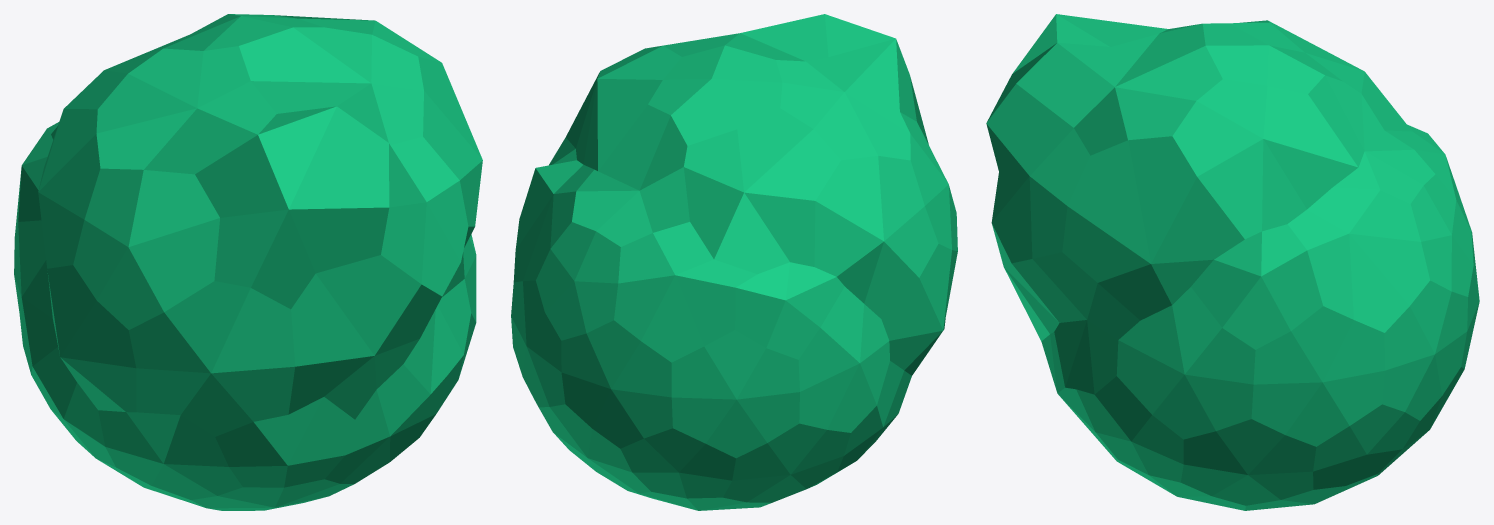
The model's file is shell.fbx.
3 views of the same model, side by side, from view 1: azimuth 30°, elevation 25°; view 2: azimuth 150°, elevation 25°; view 3: azimuth 270°, elevation 25° (orthographic). The views are drawn at different scales.
Parts seen in each view (by area): view 1: Shell; view 2: Shell; view 3: Shell.
Part boxes in pixels (x1,y1,x2,y2): Shell: (14,14,482,510); Shell: (511,14,957,510); Shell: (986,14,1479,510).
Size of the model in its own units: 192 by 209 by 205.
